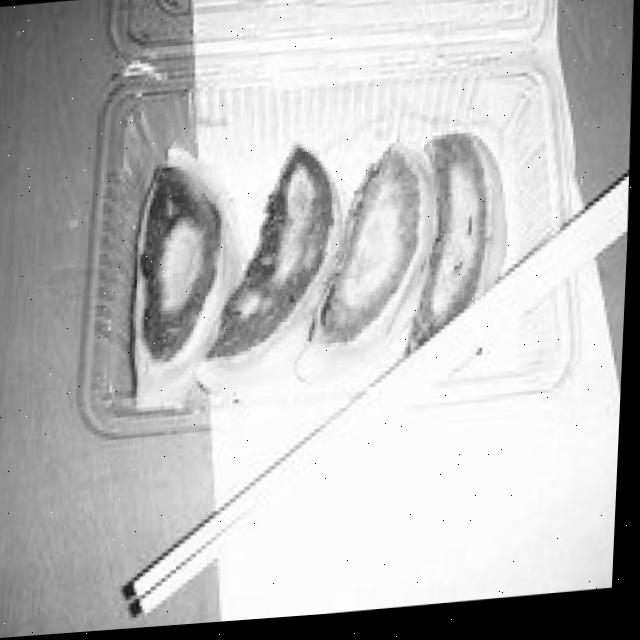带馅早点: (106, 77, 519, 423)
